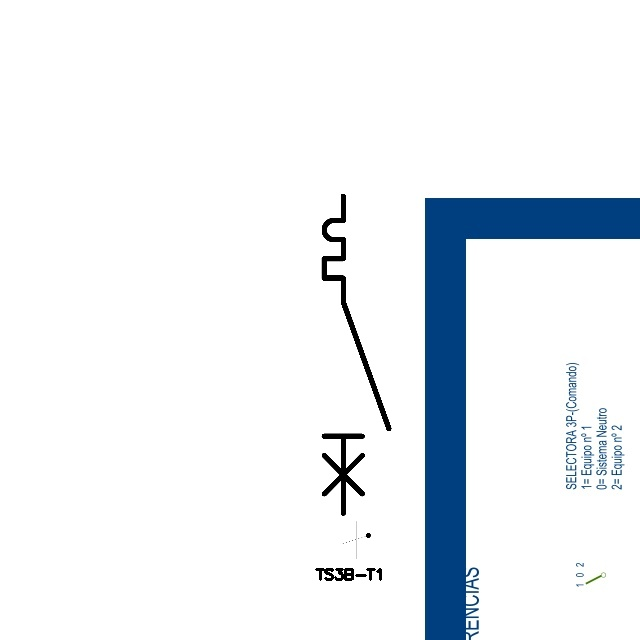interruptor_termomagnetico: (316, 188, 397, 521)
